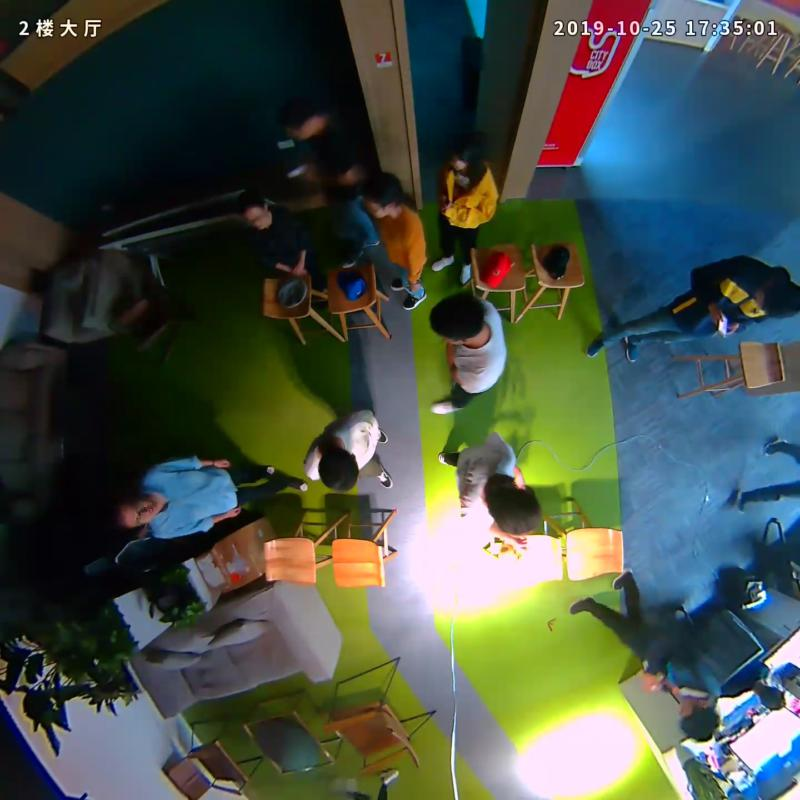head: (429, 292, 488, 348), (96, 489, 159, 530), (493, 484, 541, 536), (676, 693, 719, 742), (753, 278, 800, 321), (281, 99, 322, 144), (359, 172, 398, 219), (319, 449, 358, 492), (444, 131, 481, 173), (238, 187, 269, 230)
